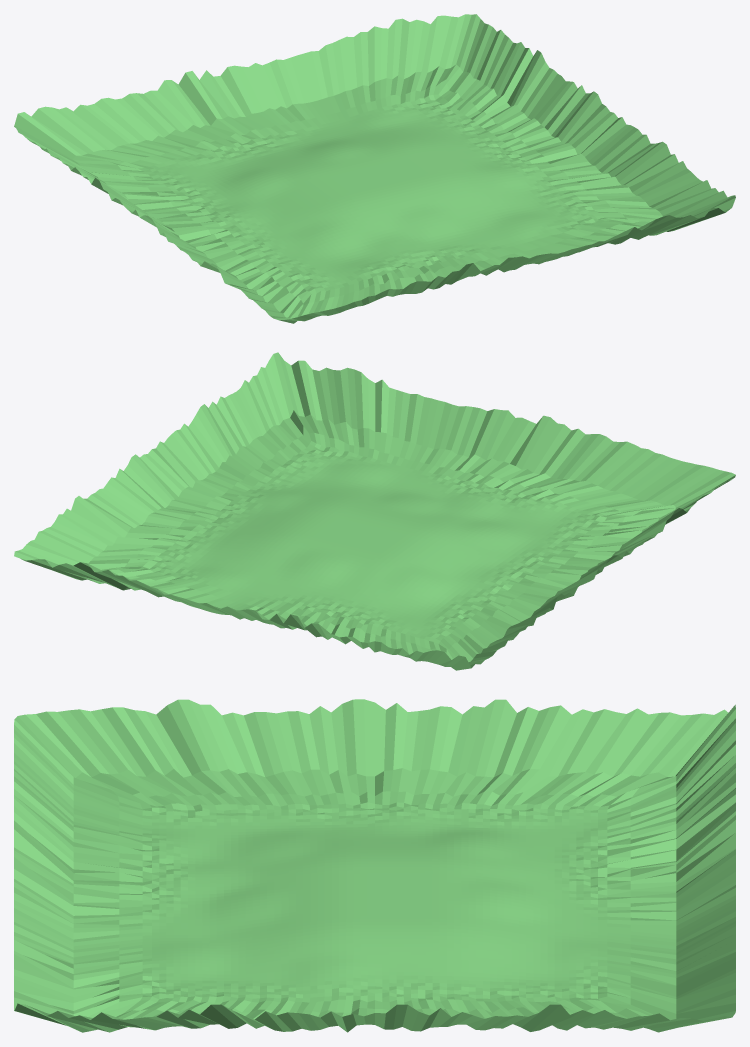
Rendered from grassTerrain.fbx.
3 views of the same model, one above another, from view 1: azimuth 30°, elevation 25°; view 2: azimuth 150°, elevation 25°; view 3: azimuth 270°, elevation 25° (orthographic). The views are drawn at different scales.
Visible parts, largest first — view 1: Terrain; view 2: Terrain; view 3: Terrain.
Boxes of the visible parts, x1,y1,x2,y2 form: Terrain: [14, 14, 735, 323]; Terrain: [14, 352, 735, 670]; Terrain: [14, 699, 735, 1032].
Bounding box in the file's own units: 19325 × 1632 × 19325.
